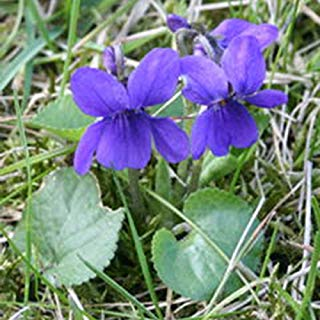violet: (61, 41, 188, 181), (171, 38, 294, 161)
